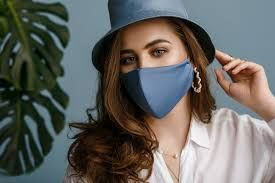with-mask: (104, 25, 206, 128)
